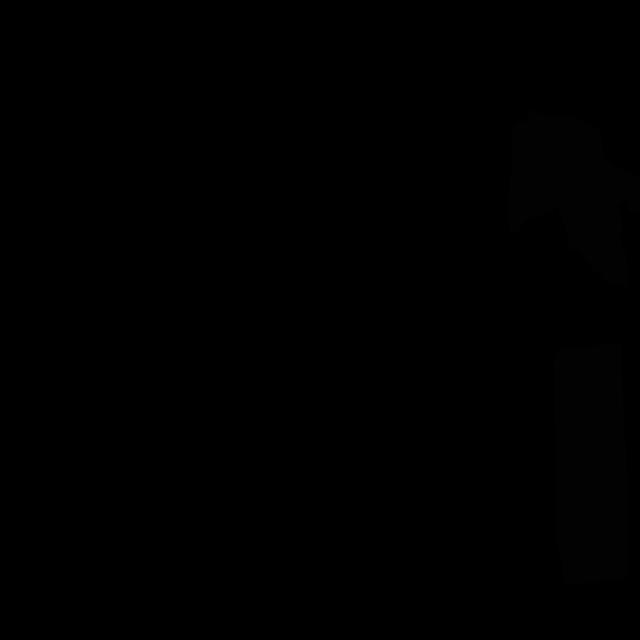cardboard: (508, 108, 640, 288), (553, 342, 629, 583)
